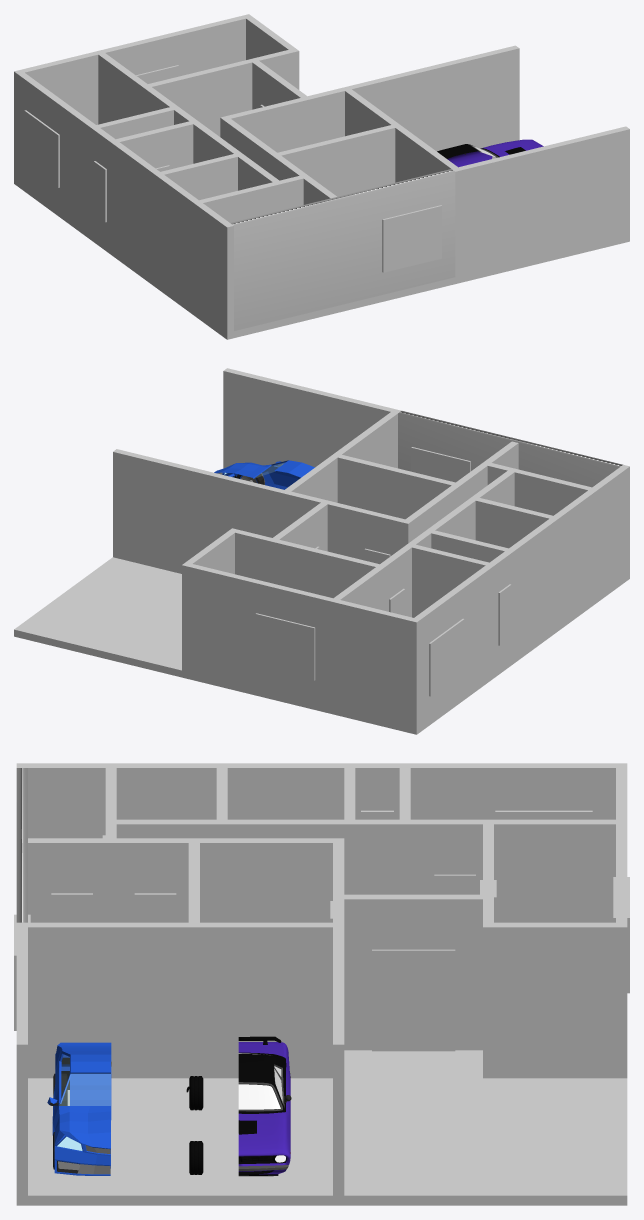
Rendered from Bambo_House.glb.
3 views of the same model, one above another, from view 1: azimuth 30°, elevation 25°; view 2: azimuth 150°, elevation 25°; view 3: azimuth 270°, elevation 25° (orthographic). The views are drawn at different scales.
Parts seen in each view (by area): view 1: Cube.001, Cube.030, Cube.004, Cube.031, Cube.003, Cube.005, Cube.011, Cube.013, Cube.012, Cube.002, Cube, Cube.032 (+12 smaller); view 2: Cube.001, Cube.003, Cube.031, Cube.026, Cube.004, Cube.030, Cube.013, Cube.005, Cube.011, Cube.012, Cube.002, Cube (+12 smaller); view 3: Cube.026, Cube.002, Cube.001, Cube.005, Cube.015, Cube.010, Cube.014, Cube.020, car_B, Cube.033, Cube, Cube.004 (+14 smaller).
Boxes of the visible parts, x1,y1,x2,y2 form: Cube.001: (14,70,233,332); Cube.030: (230,169,455,330); Cube.004: (459,126,629,275); Cube.031: (348,45,519,158); Cube.003: (21,16,245,124); Cube.005: (98,53,278,190); Cube.011: (277,125,395,196); Cube.013: (148,50,292,136); Cube.012: (220,88,344,152); Cube.002: (341,86,461,276); Cube: (14,177,461,339); Cube.032: (382,205,441,272); Cube.001: (410,465,629,727); Cube.003: (188,564,413,725); Cube.031: (113,449,283,573); Cube.026: (14,557,181,677); Cube.004: (223,368,394,484); Cube.030: (398,411,622,487); Cube.013: (235,530,379,598); Cube.005: (334,470,514,617); Cube.011: (337,454,455,519); Cube.012: (287,491,411,560); Cube.002: (280,409,401,531); Cube: (182,572,629,734); Cube.026: (16,1078,627,1205); Cube.002: (16,922,344,1078); Cube.001: (16,763,627,838); Cube.005: (116,819,615,922); Cube.015: (483,922,627,1078); Cube.010: (28,838,332,922); Cube.014: (344,894,482,1050); Cube.020: (372,949,455,1051); car_B: (186,1036,291,1176); Cube.033: (47,1042,111,1175); Cube: (344,1050,482,1078); Cube.004: (16,927,27,1195).
Bounding box in the file's own units: 12.05 × 3.2 × 11.1.
